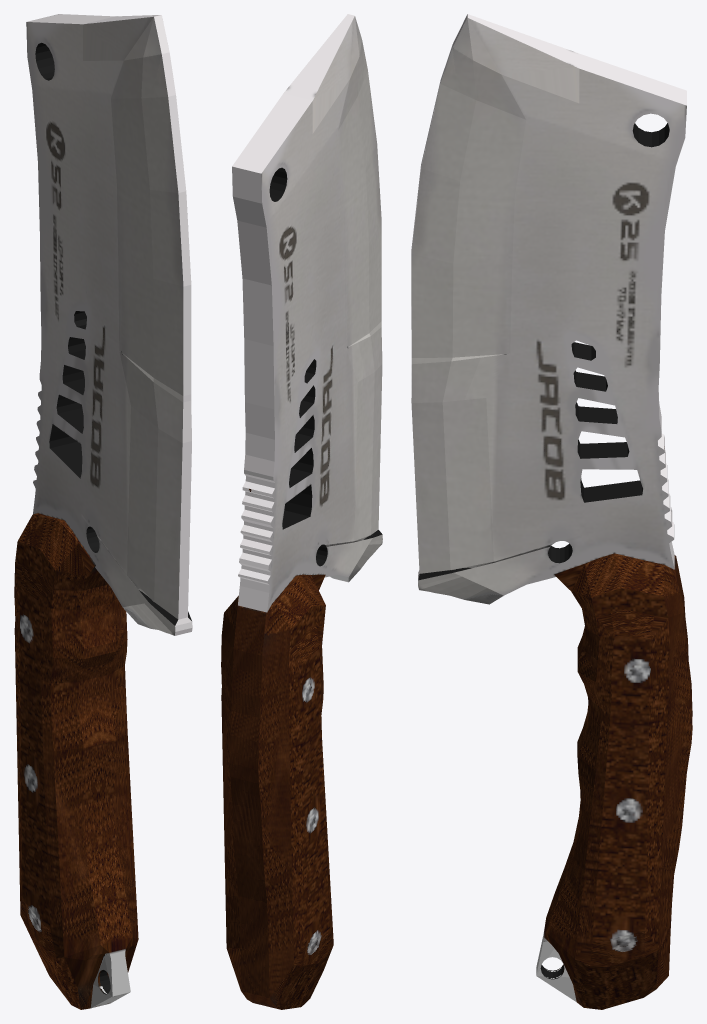
The model's file is k25_jacob_cleaver_model.fbx.
3 views of the same model, side by side, from view 1: azimuth 30°, elevation 25°; view 2: azimuth 150°, elevation 25°; view 3: azimuth 270°, elevation 25° (orthographic). The views are drawn at different scales.
Visible parts, largest first — view 1: blade; view 2: blade; view 3: blade.
Part boxes in pixels (<box>): blade: <box>14,14,192,1009</box>; blade: <box>221,14,382,1009</box>; blade: <box>411,14,692,1009</box>.
Bounding box in the file's own units: 0.0208 × 0.2445 × 0.0632.
